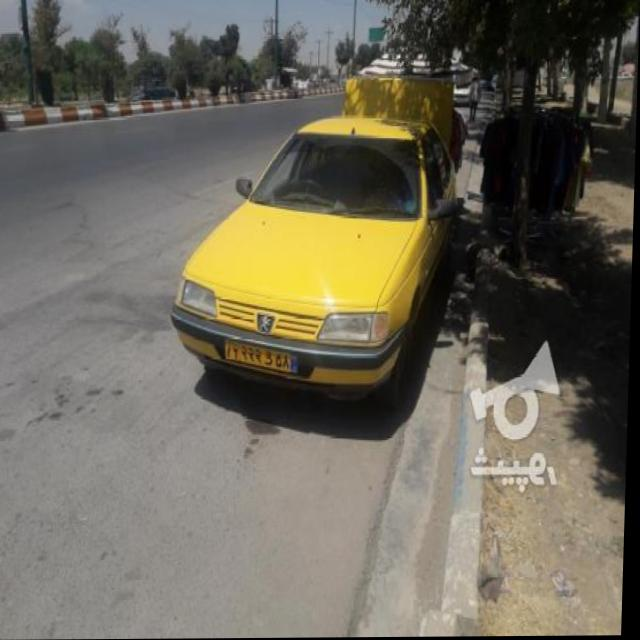licence: (229, 335, 306, 382)
